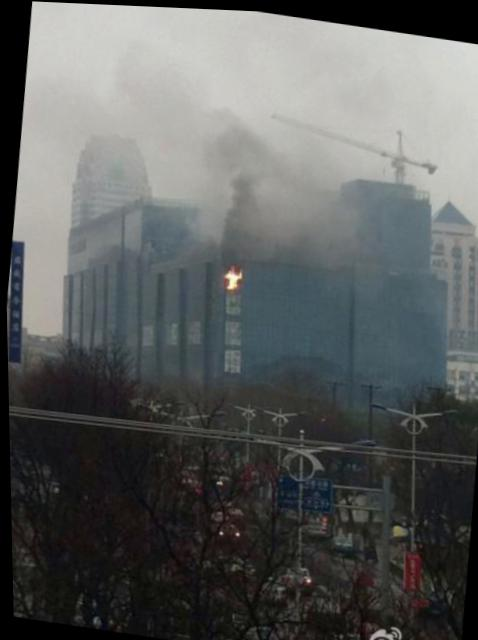fire: (221, 264, 239, 289)
